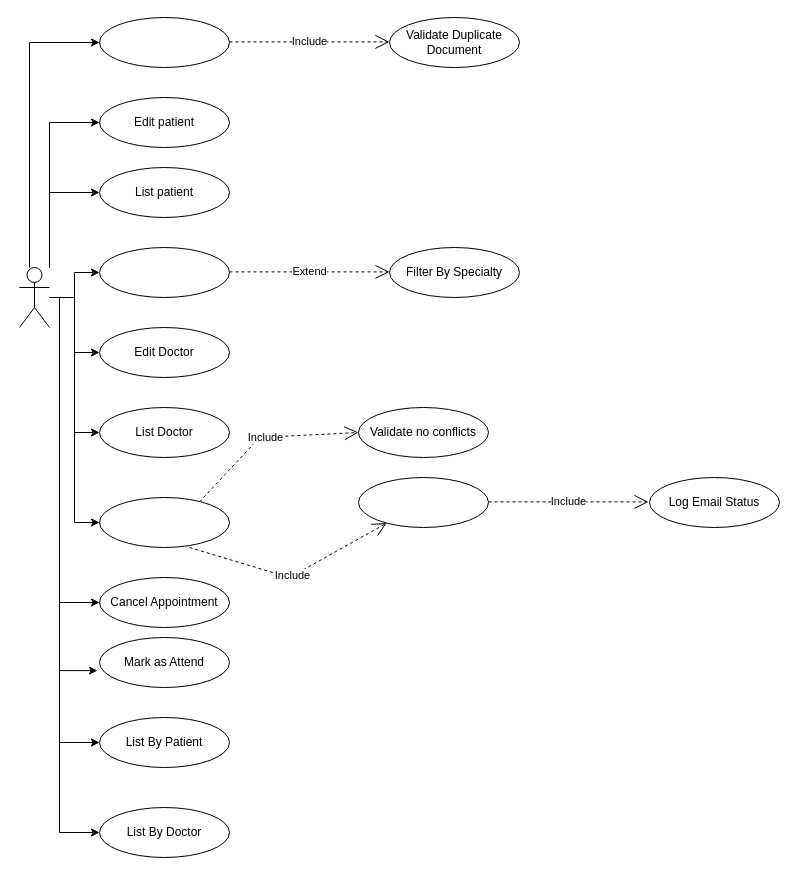
This 797x875 diagram has some shape labels left out. The shapes that lost their labels are listed below. From the top down, each one's centre as x and y in pixels, then its label:
point 164,42: Register patient
point 164,272: Register Doctor
point 34,297: Admin
point 164,522: Schedule Appointment
point 423,502: Sent Confirmation Email
